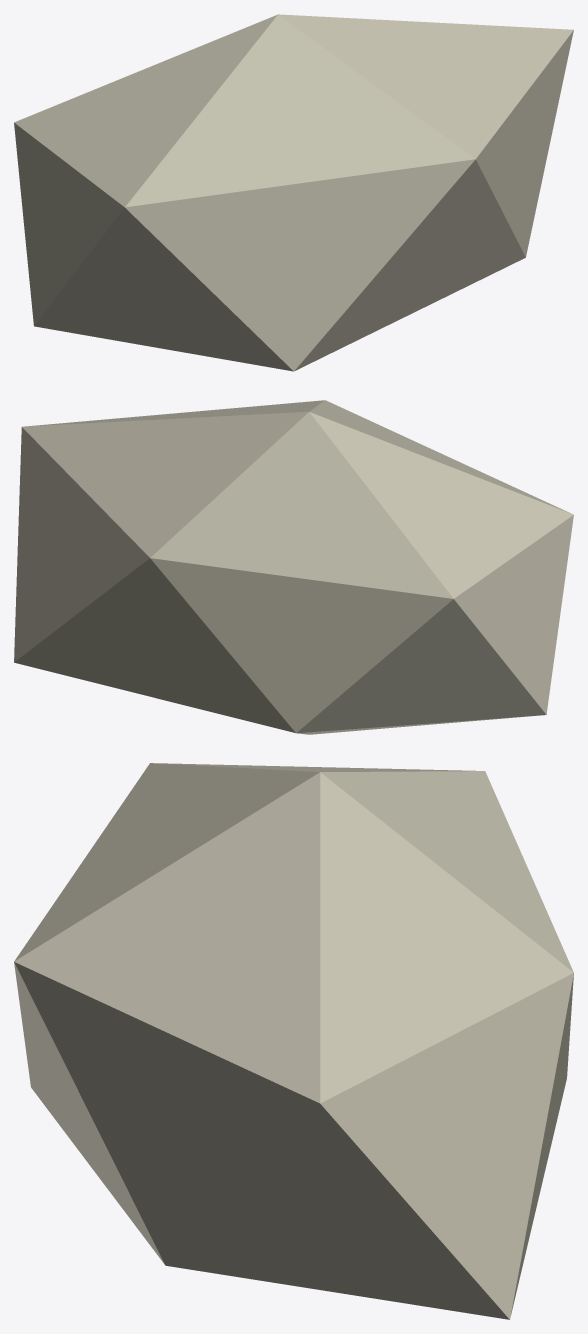
Rendered from item_074_tin_ore_s.glb.
The picture shows the model from 3 angles, top to bottom: view 1: azimuth 30°, elevation 25°; view 2: azimuth 150°, elevation 25°; view 3: azimuth 270°, elevation 25°; orthographic projection. The views are drawn at different scales.
Visible parts, largest first — view 1: item_074_tin_ore_s; view 2: item_074_tin_ore_s; view 3: item_074_tin_ore_s.
Boxes of the visible parts, left/top/right/bottom form: item_074_tin_ore_s: left=14, top=14, right=573, bottom=371; item_074_tin_ore_s: left=14, top=400, right=573, bottom=734; item_074_tin_ore_s: left=14, top=763, right=573, bottom=1319.
Size of the model in its own units: 0.3291 by 0.1936 by 0.2068.
